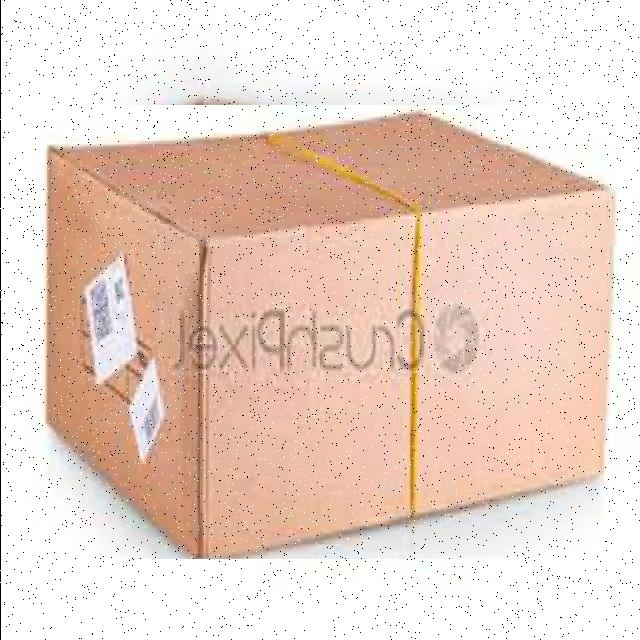normal: (38, 104, 617, 558)
